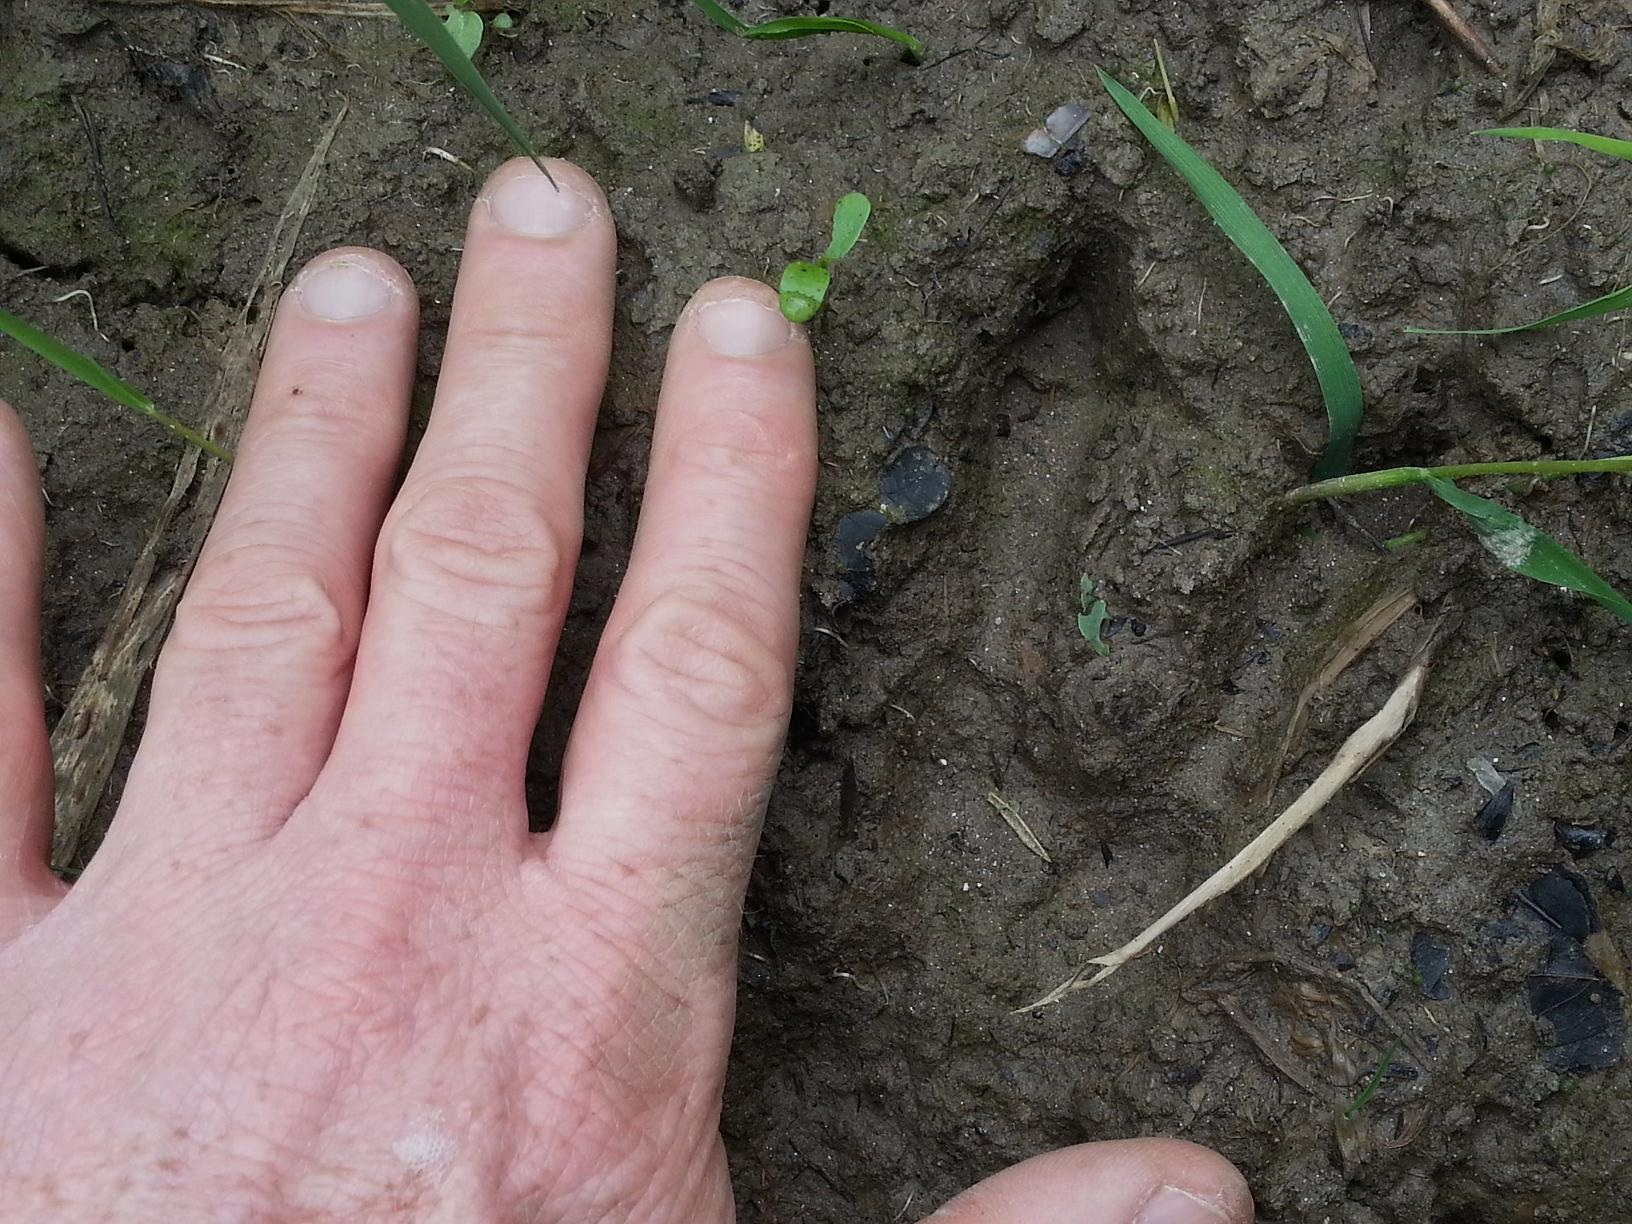beaver: (745, 222, 1461, 993)
